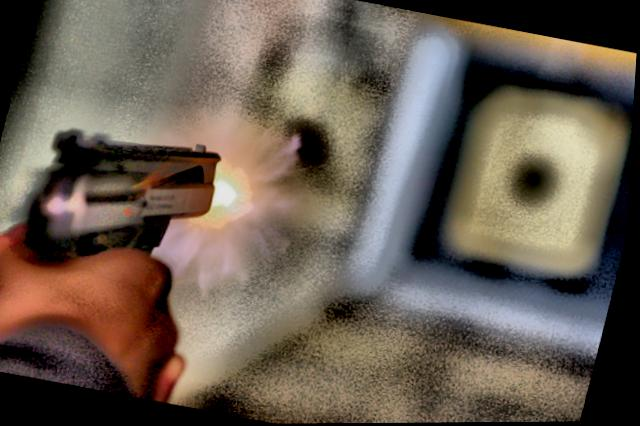pistol: (13, 108, 227, 296)
